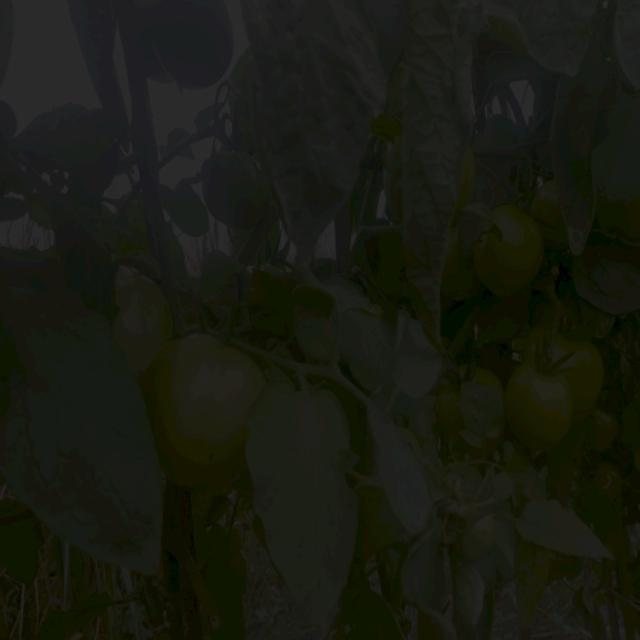tomato: (159, 337, 259, 482), (472, 204, 544, 297), (115, 279, 180, 375), (507, 361, 568, 456), (443, 357, 501, 396), (534, 179, 565, 234), (591, 404, 622, 452)
